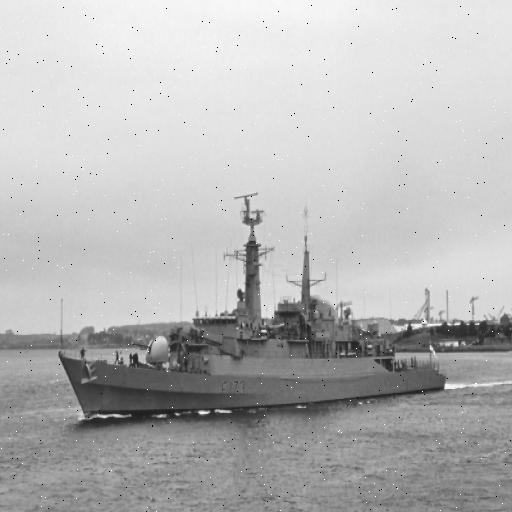Fragata: (55, 188, 450, 430)
